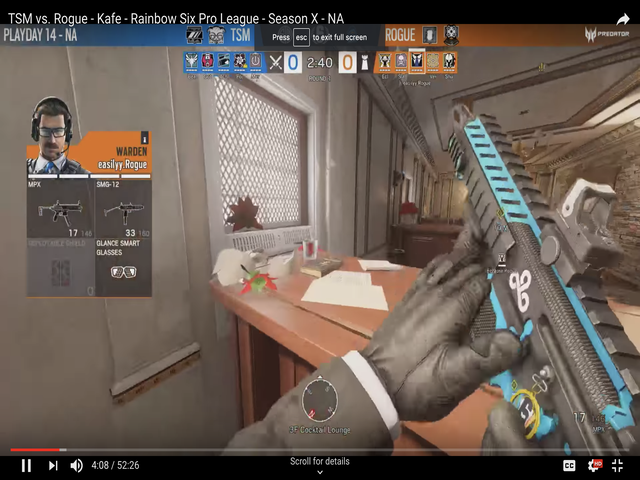0_blue: (283, 50, 302, 73)
